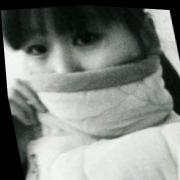WRONG: (12, 5, 153, 150)
